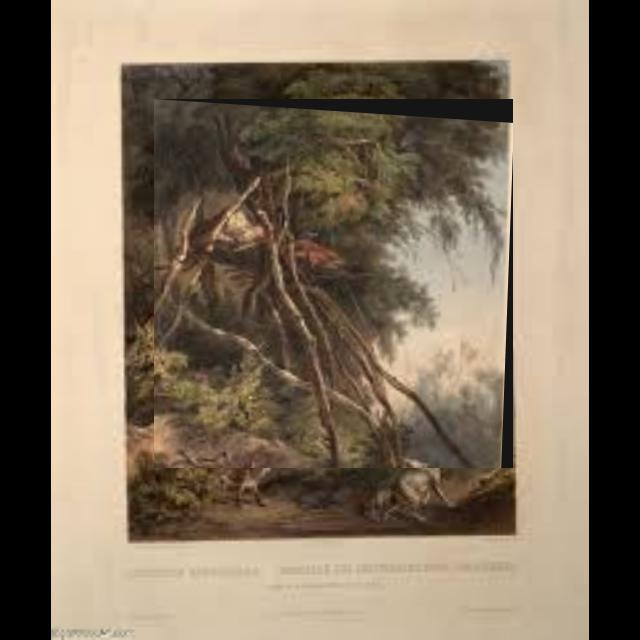fallen_tree: (154, 99, 514, 469)
